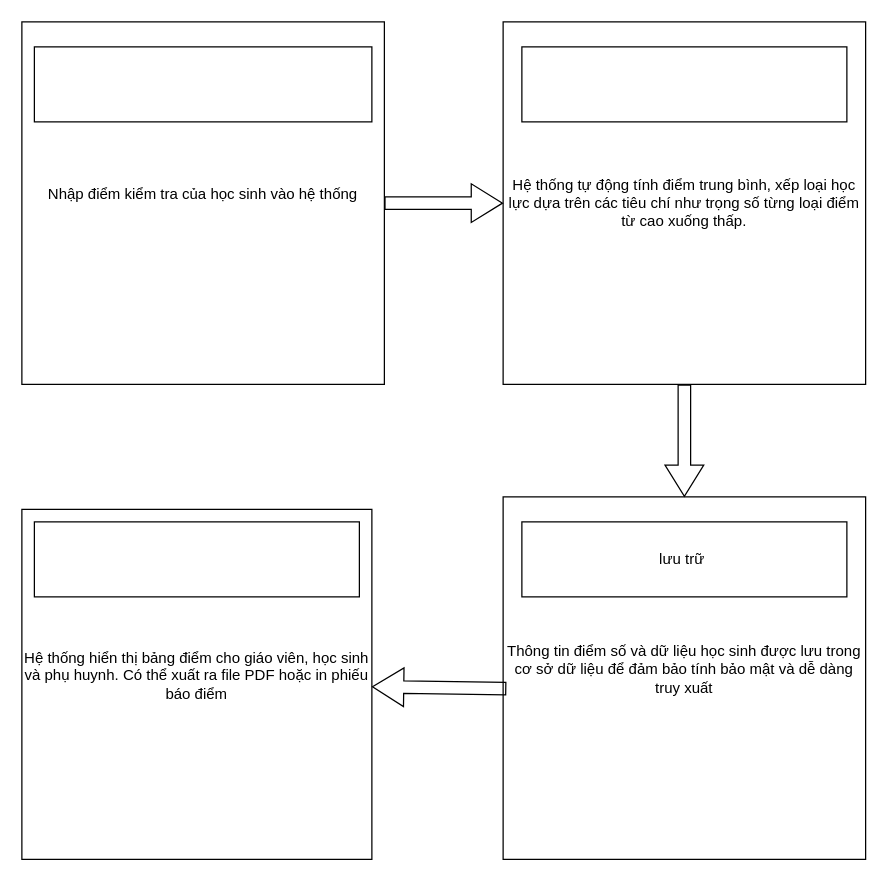
This 888x881 diagram has some shape labels left out. The shapes that lost their labels are listed below. From the top down, each one's centre as x and y in pixels, then its label:
point 202,84: INPUT ( quản lý điểm của học sinh)
point 684,84: Xử lí dữ liệu
point 196,559: Xuất kết quả
